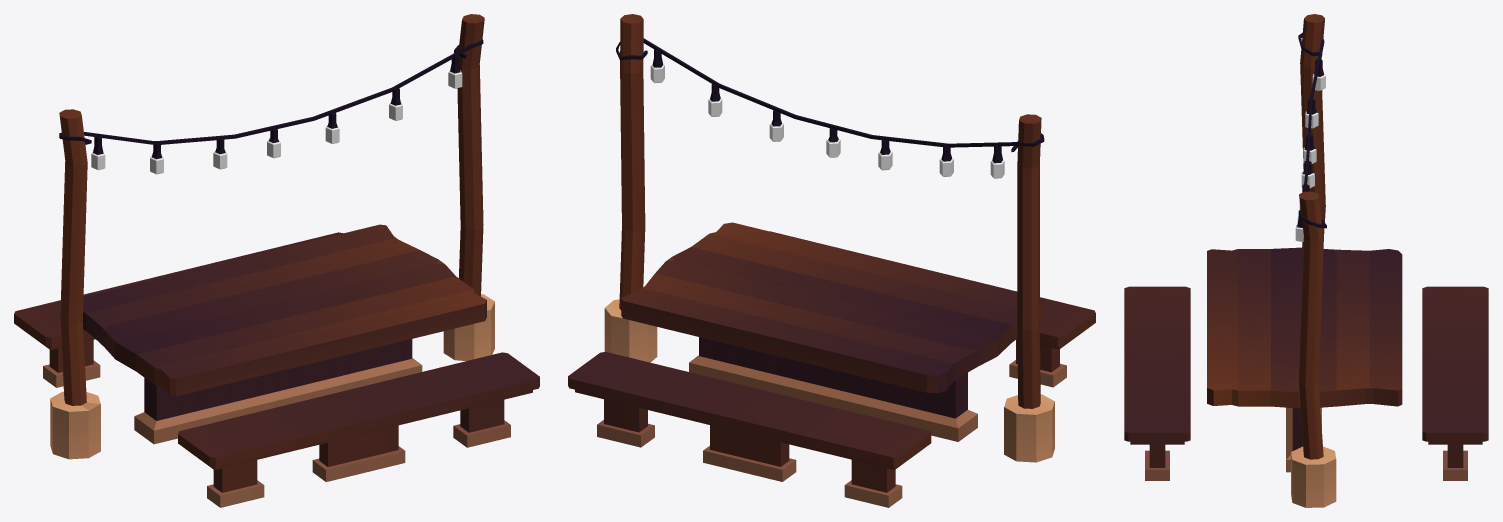
File: Garden_Table_PicnicLights.fbx
3 views of the same model, side by side, from view 1: azimuth 30°, elevation 25°; view 2: azimuth 150°, elevation 25°; view 3: azimuth 270°, elevation 25° (orthographic). The views are drawn at different scales.
Visible parts, largest first — view 1: Cube.162; view 2: Cube.162; view 3: Cube.162.
Part boxes in pixels (box(x1,y1,x2,y2)): Cube.162: box(14, 14, 539, 507); Cube.162: box(568, 14, 1095, 507); Cube.162: box(1124, 14, 1488, 507).
Size of the model in its own units: 266 by 197 by 210.
